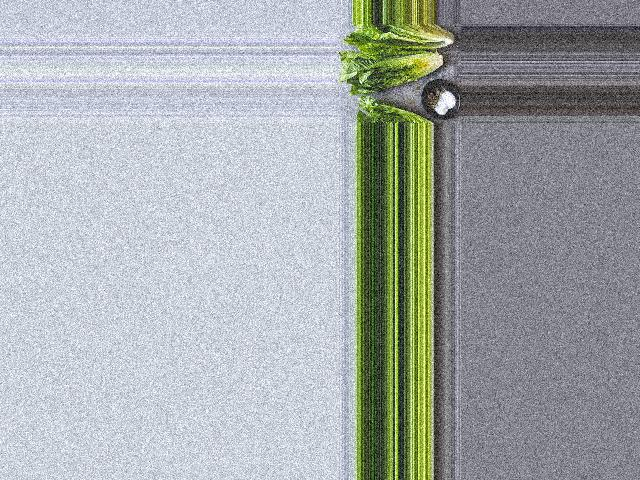lettuce: (352, 24, 461, 53)
